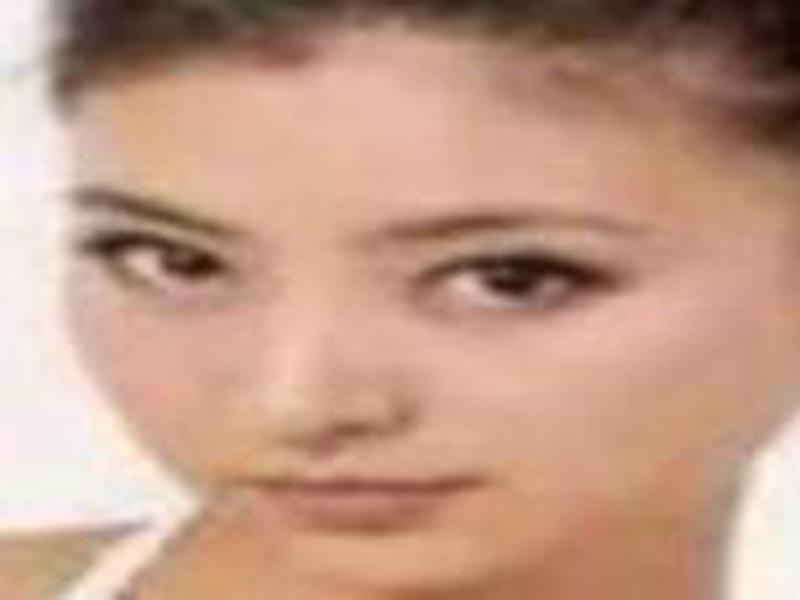without_mask: (54, 90, 798, 597)
